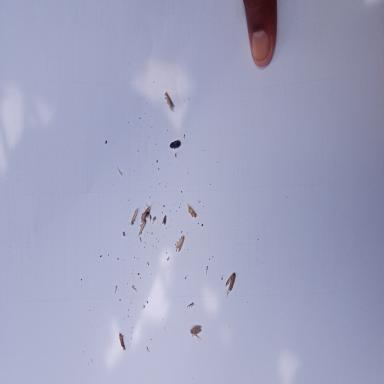pbw: (225, 273, 236, 299), (164, 90, 174, 112), (186, 203, 198, 219), (175, 234, 185, 253), (140, 204, 150, 222), (137, 218, 146, 238), (190, 326, 202, 340), (118, 330, 126, 350), (130, 208, 138, 226)
